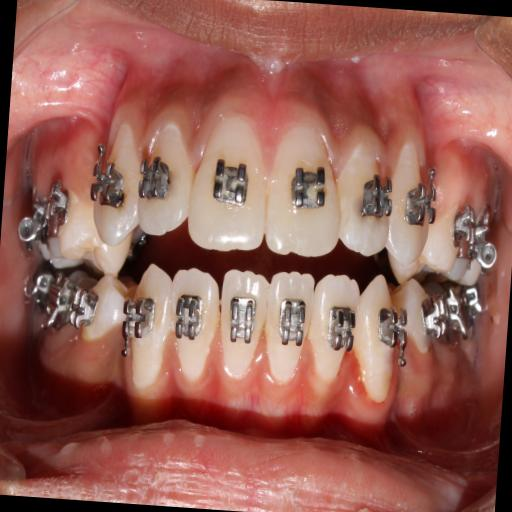correct_brace: (207, 149, 255, 216), (284, 158, 332, 222), (133, 147, 177, 211), (170, 288, 208, 356), (119, 292, 155, 360), (321, 300, 359, 362), (357, 166, 396, 226), (274, 294, 312, 352), (223, 294, 261, 350)
incorrect_brace: (132, 114, 198, 248), (334, 128, 400, 260), (166, 263, 222, 393), (306, 270, 360, 400)
